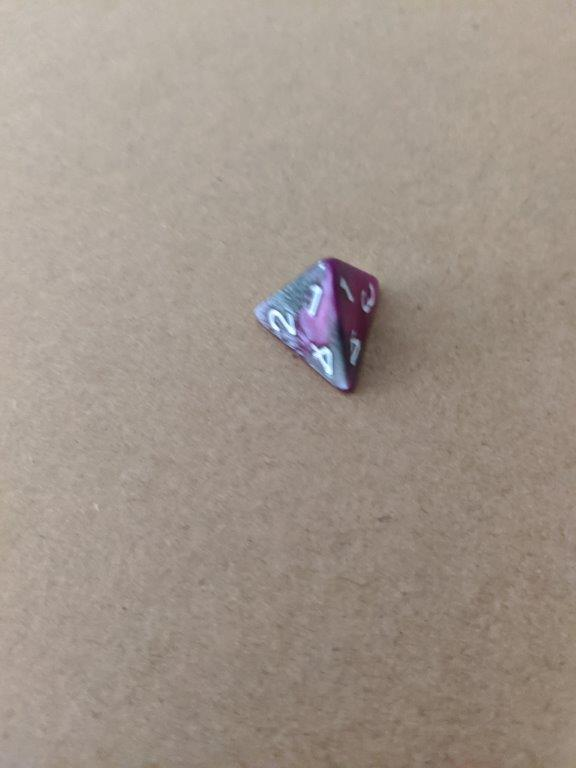d4-1: (244, 256, 384, 394)
